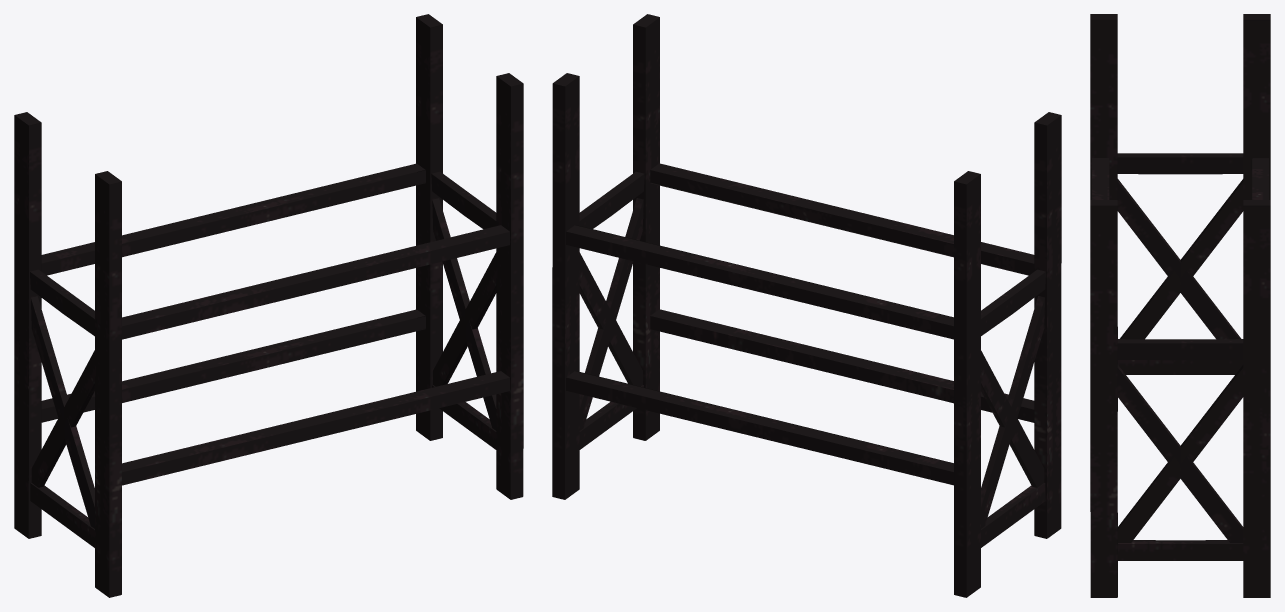
Rendered from SM_EC_BarnShelf_0.fbx.
3 renders of one model, left to right at view 1: azimuth 30°, elevation 25°; view 2: azimuth 150°, elevation 25°; view 3: azimuth 270°, elevation 25°, orthographic. The views are drawn at different scales.
Visible parts, largest first — view 1: SM_EC_BarnShelf_0; view 2: SM_EC_BarnShelf_0; view 3: SM_EC_BarnShelf_0.
Part boxes in pixels (x1=…): SM_EC_BarnShelf_0: x1=14, y1=14, x2=523, y2=597; SM_EC_BarnShelf_0: x1=552, y1=14, x2=1061, y2=597; SM_EC_BarnShelf_0: x1=1090, y1=14, x2=1270, y2=597.
Size of the model in its own units: 3.27 by 1.3 by 3.12.
